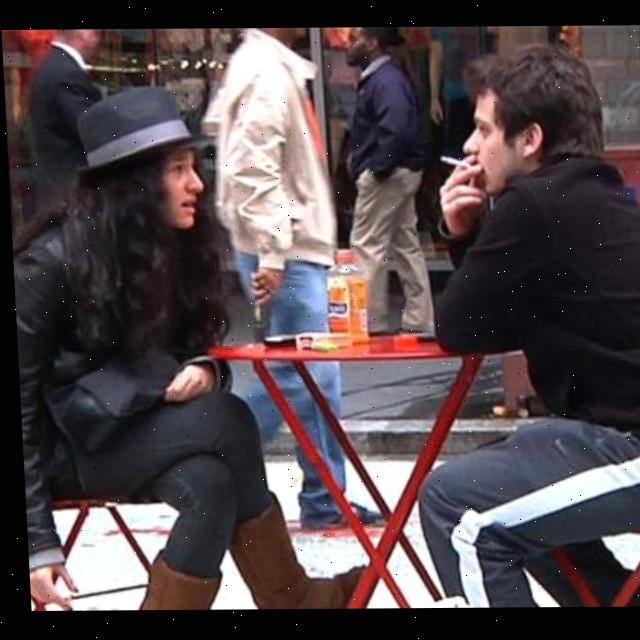cigarette: (438, 154, 467, 166)
